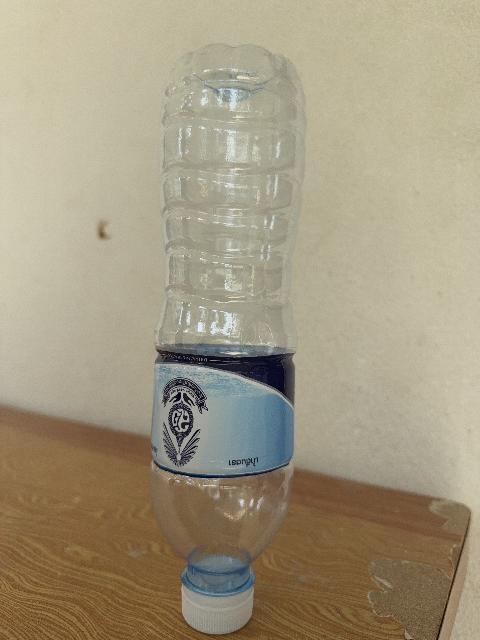bottle: (151, 45, 305, 633)
